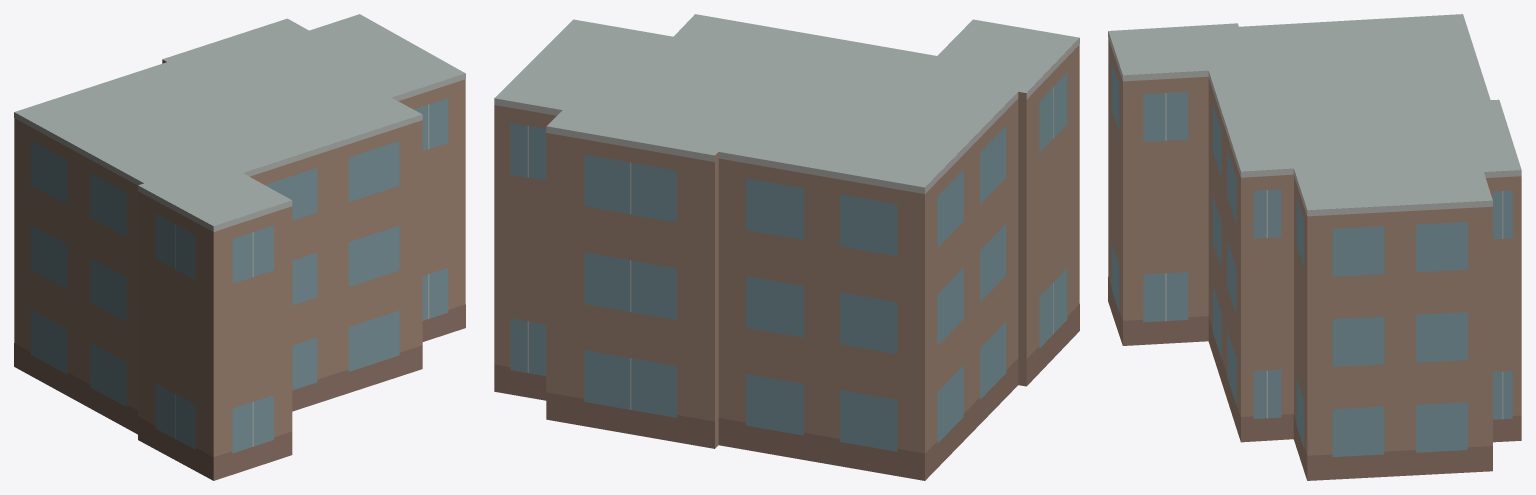
Rendered from survey-upis-32463718.glb.
The picture shows the model from 3 angles, left to right: view 1: azimuth 30°, elevation 25°; view 2: azimuth 150°, elevation 25°; view 3: azimuth 270°, elevation 25°; orthographic projection. The views are drawn at different scales.
Parts seen in each view (by area): view 1: survey-upis-32463718.tmp; view 2: survey-upis-32463718.tmp; view 3: survey-upis-32463718.tmp.
Part boxes in pixels (left/top/right/bottom): survey-upis-32463718.tmp: left=14, top=14, right=465, bottom=480; survey-upis-32463718.tmp: left=494, top=14, right=1079, bottom=480; survey-upis-32463718.tmp: left=1108, top=14, right=1521, bottom=480.
Size of the model in its own units: 16.81 by 10.8 by 14.97.
